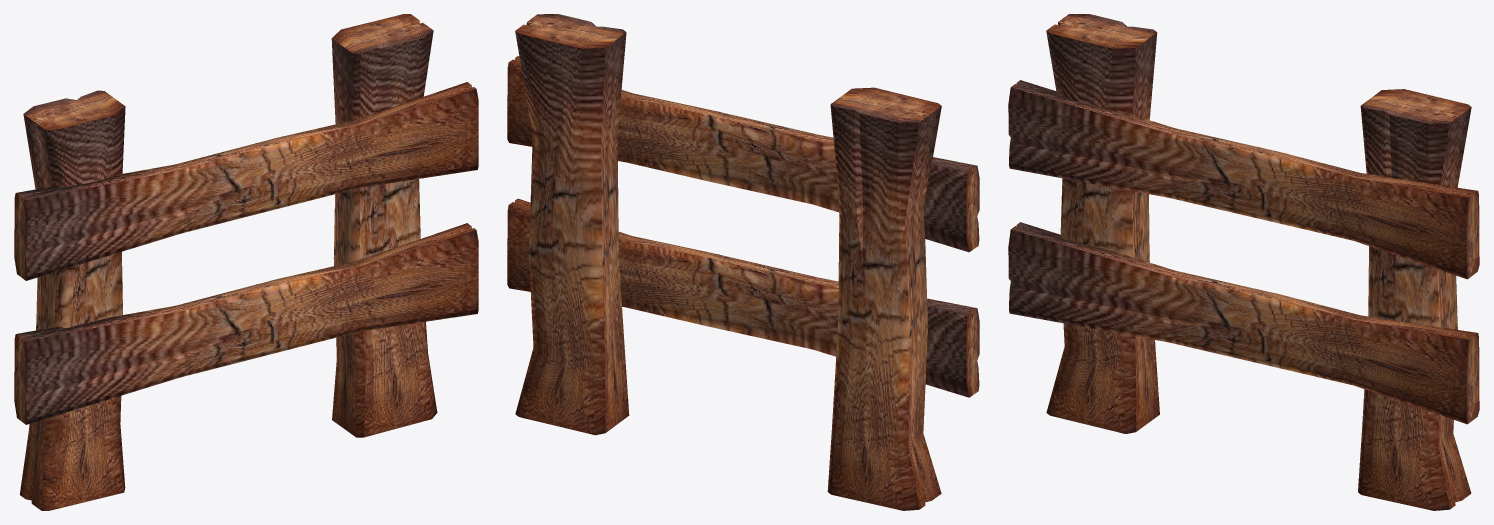
Rendered from CercaUno.fbx.
The picture shows the model from 3 angles, left to right: view 1: azimuth 30°, elevation 25°; view 2: azimuth 150°, elevation 25°; view 3: azimuth 330°, elevation 25°; orthographic projection.
Parts seen in each view (by area): view 1: Cerca; view 2: Cerca; view 3: Cerca.
Boxes of the visible parts, <box> form: Cerca: <box>14,14,478,510</box>; Cerca: <box>507,14,979,510</box>; Cerca: <box>1008,14,1479,510</box>.
Bounding box in the file's own units: 0.3266 × 0.2633 × 0.0505.
